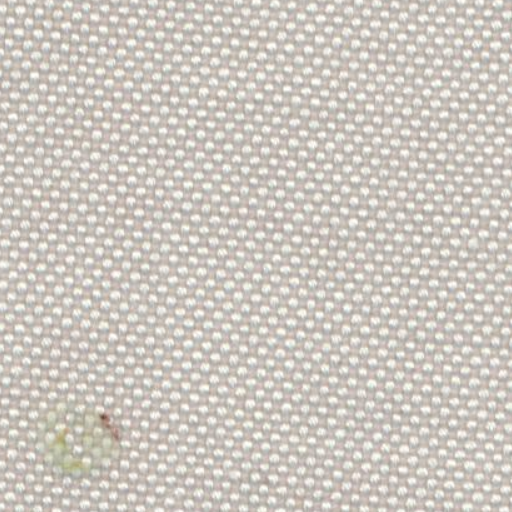WuZi: (22, 382, 140, 487)
